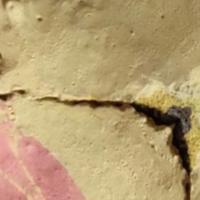crack: (0, 75, 199, 199)
